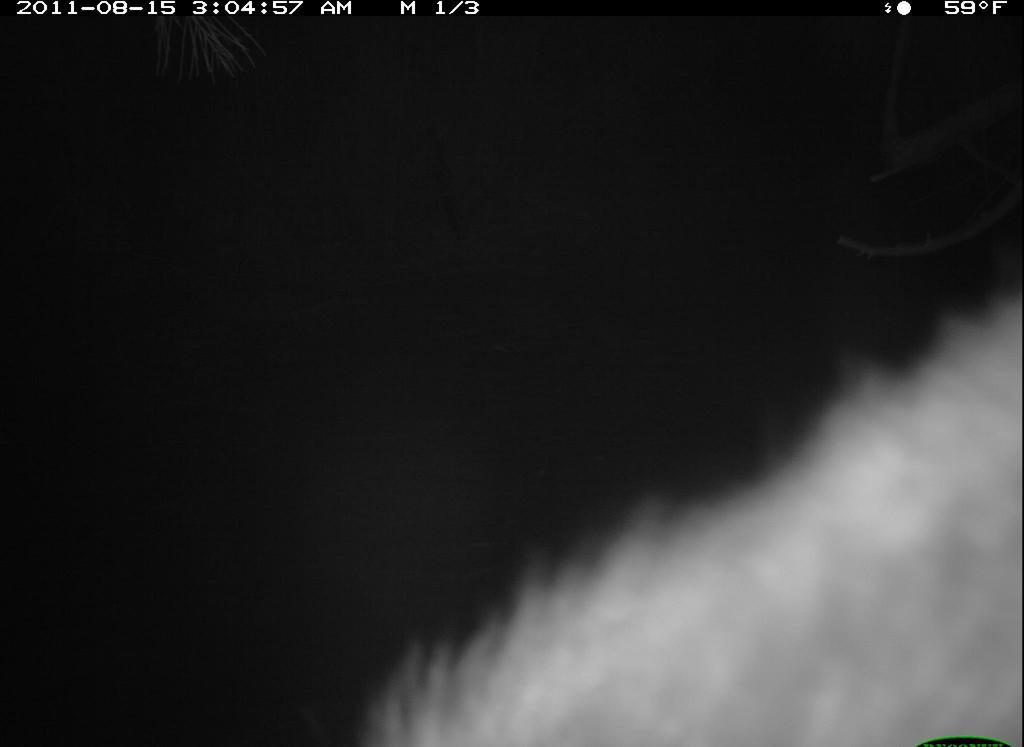raccoon: (338, 242, 1023, 742)
